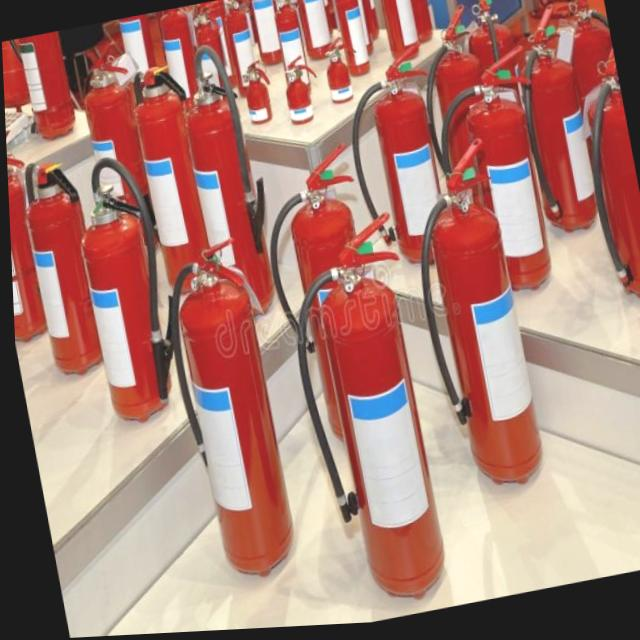FireExtinguisher: (265, 206, 464, 622), (388, 132, 550, 506), (146, 225, 304, 595), (241, 133, 409, 463), (416, 44, 572, 312), (54, 139, 189, 434), (165, 33, 279, 330), (327, 42, 464, 286), (403, 0, 525, 248), (498, 0, 616, 248), (9, 148, 115, 383), (538, 0, 640, 243), (122, 57, 221, 305), (71, 38, 167, 262), (561, 56, 640, 321), (449, 0, 552, 203), (4, 119, 54, 346), (12, 30, 82, 151), (186, 3, 240, 131), (152, 7, 210, 126), (215, 0, 271, 105), (111, 14, 168, 116), (265, 0, 320, 99), (314, 22, 369, 112), (275, 48, 327, 132), (327, 0, 374, 82), (370, 0, 425, 69), (234, 53, 279, 130), (245, 0, 288, 71), (291, 0, 336, 66)
